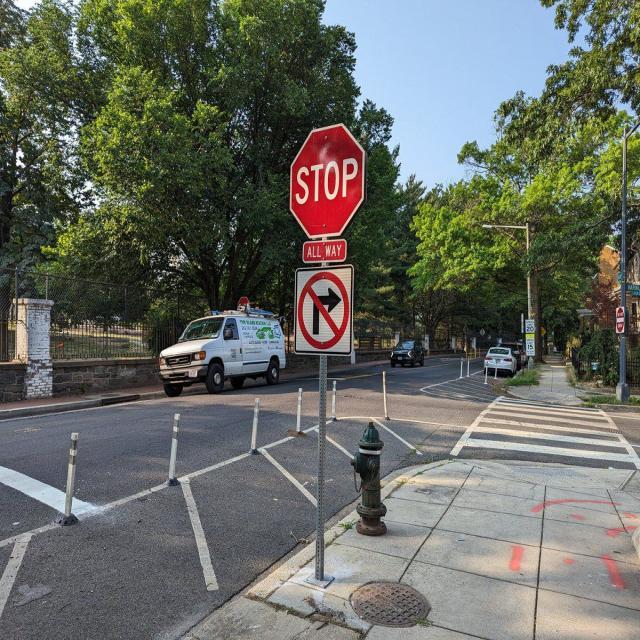stop: (283, 121, 367, 238)
